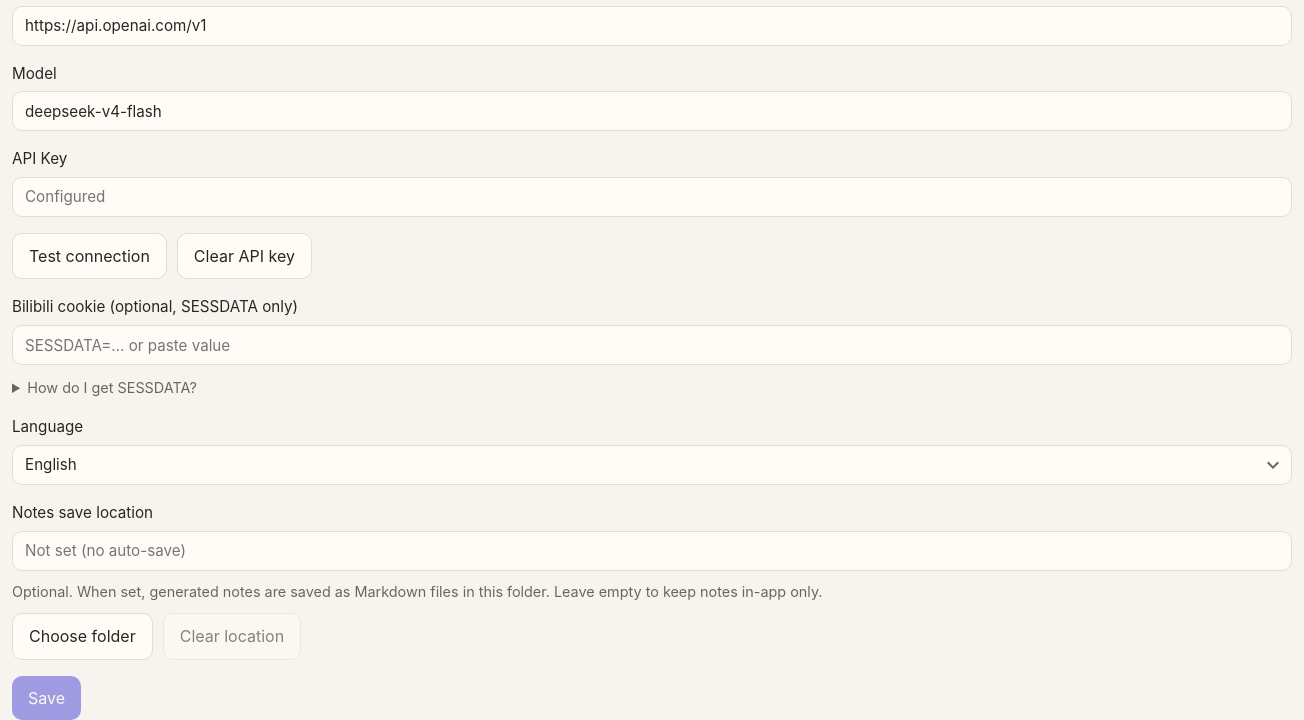
Scenario: ConfigForm › clears API key immediately after confirmation
(page scrolled)
Click the button "Clear API key" at (244, 256), box [177,233,312,280]
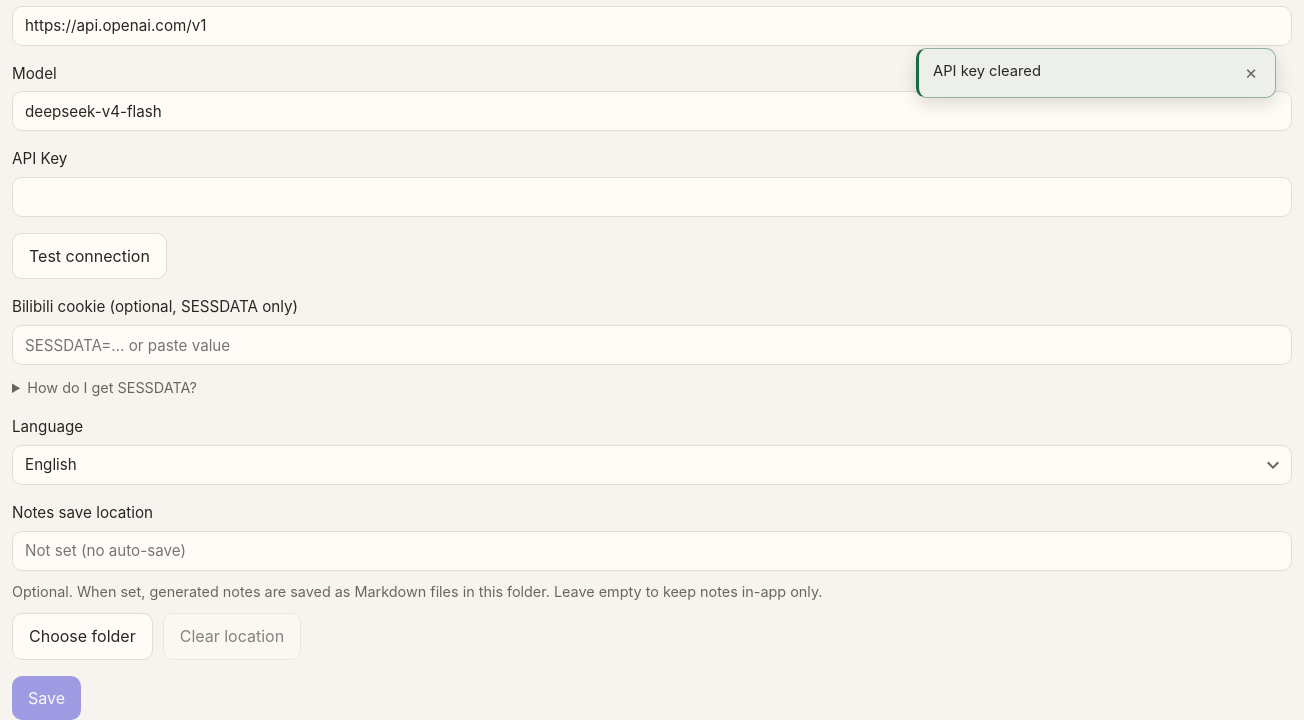
Now the text "API key cleared" is shown, box [933,62,1041,80]
